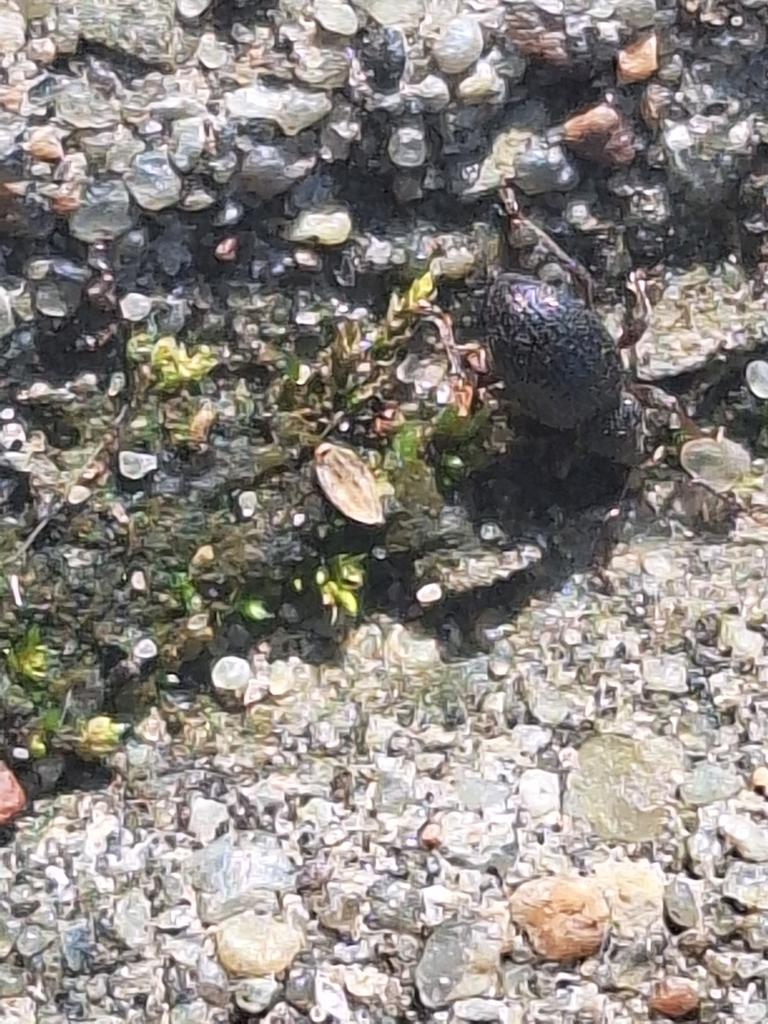weevils: (364, 223, 737, 521)
